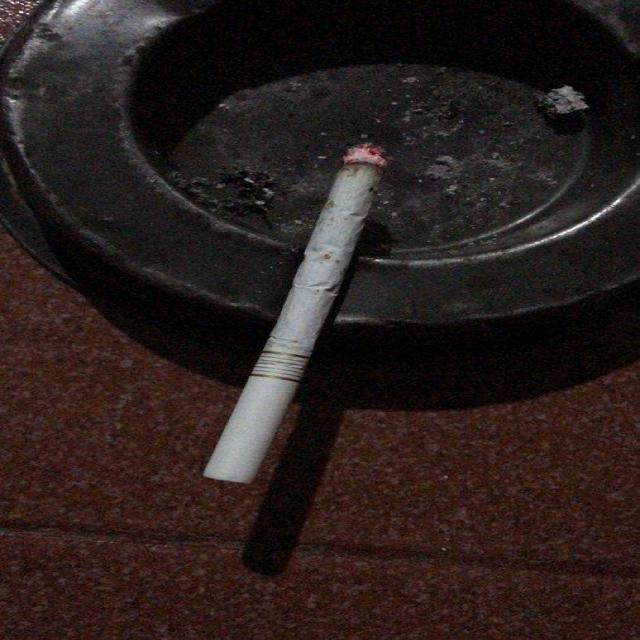rokok: (200, 137, 394, 490)
